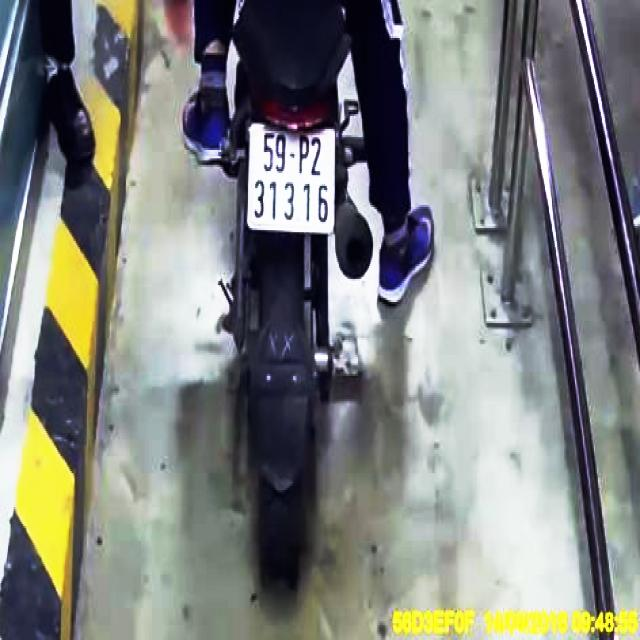license_plate: (250, 128, 334, 231)
